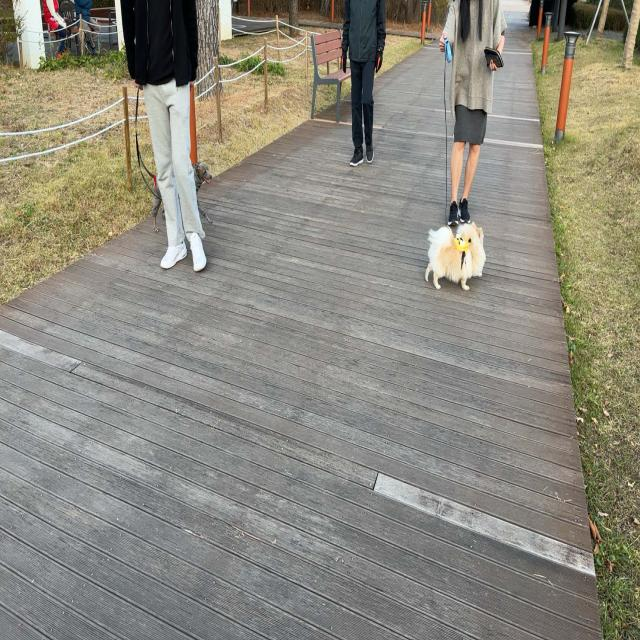Leashed_Dog: (424, 30, 487, 292), (131, 74, 215, 232)
